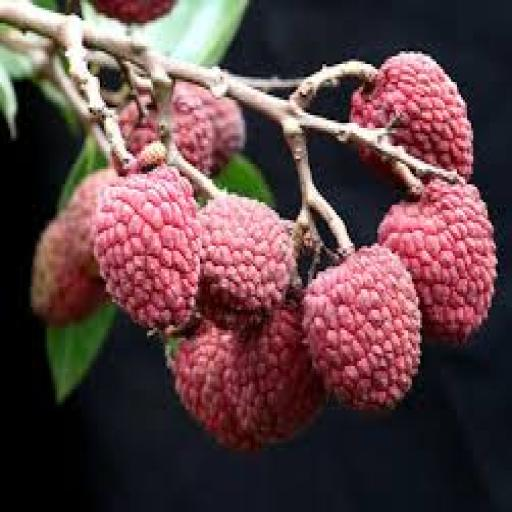lychee: (302, 246, 420, 409), (380, 182, 497, 343), (94, 167, 199, 327), (351, 52, 473, 179), (227, 305, 326, 442), (198, 195, 295, 327), (168, 323, 261, 450), (31, 216, 106, 325), (176, 82, 246, 174), (64, 169, 116, 271), (170, 88, 214, 174), (92, 0, 175, 23)
